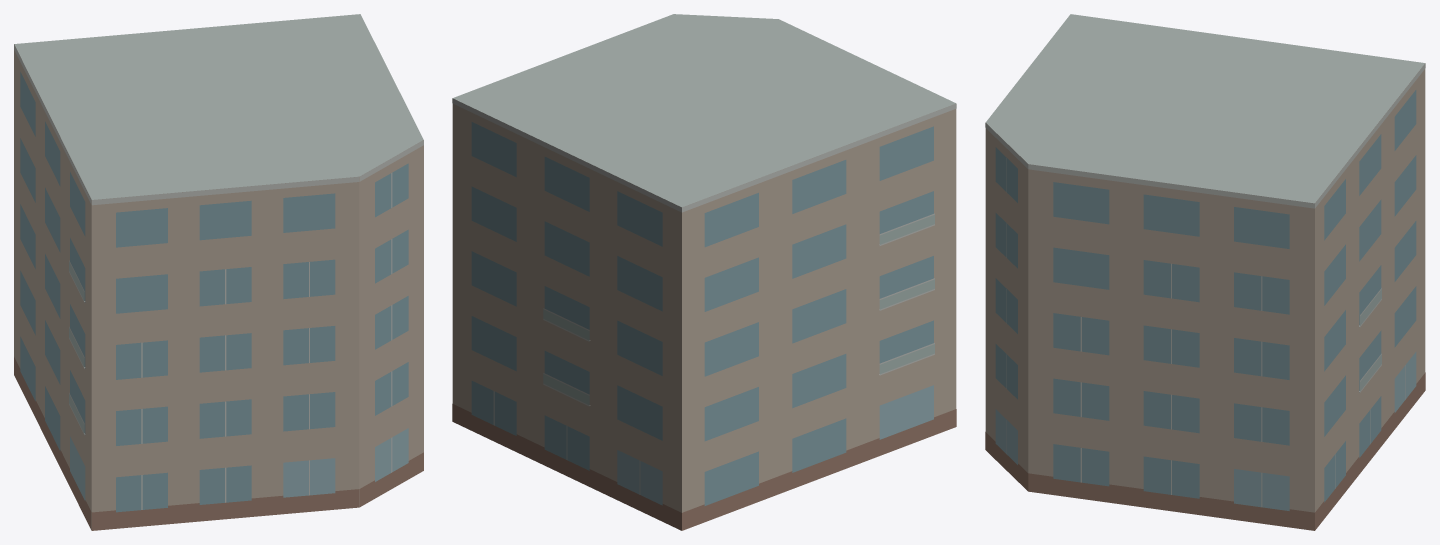
Rendered from survey-upis-32968432.glb.
3 renders of one model, left to right at view 1: azimuth 30°, elevation 25°; view 2: azimuth 150°, elevation 25°; view 3: azimuth 270°, elevation 25°, orthographic. The views are drawn at different scales.
Visible parts, largest first — view 1: survey-upis-32968432.tmp; view 2: survey-upis-32968432.tmp; view 3: survey-upis-32968432.tmp.
Boxes of the visible parts, bbox=[...] form: survey-upis-32968432.tmp: bbox=[14, 14, 423, 530]; survey-upis-32968432.tmp: bbox=[452, 14, 956, 530]; survey-upis-32968432.tmp: bbox=[985, 14, 1425, 530].
Size of the model in its own units: 18.92 by 15.25 by 18.57.
